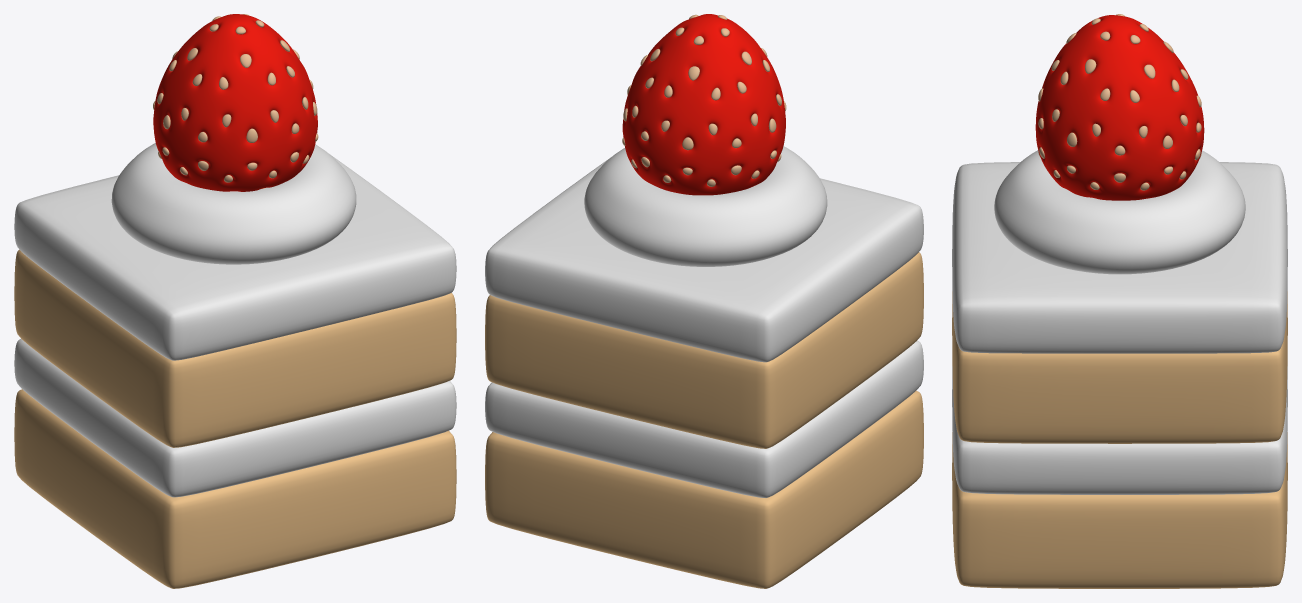
File: strawberryCake1.glb
3 renders of one model, left to right at view 1: azimuth 30°, elevation 25°; view 2: azimuth 150°, elevation 25°; view 3: azimuth 270°, elevation 25°, orthographic. The views are drawn at different scales.
Visible parts, largest first — view 1: cakeLayer4, cakeLayer1, cakeLayer3, cakeLayer2, cakeLayer6, cakeLayer5, cakeLayer7; view 2: cakeLayer4, cakeLayer1, cakeLayer3, cakeLayer2, cakeLayer6, cakeLayer5, cakeLayer7; view 3: cakeLayer4, cakeLayer1, cakeLayer3, cakeLayer6, cakeLayer5, cakeLayer2, cakeLayer7.
Part boxes in pixels (x1,y1,x2,y2): cakeLayer4: (14, 154, 456, 360); cakeLayer1: (14, 389, 456, 588); cakeLayer3: (14, 249, 456, 447); cakeLayer2: (14, 339, 456, 497); cakeLayer6: (153, 14, 317, 191); cakeLayer5: (111, 143, 356, 264); cakeLayer7: (153, 14, 318, 188); cakeLayer4: (485, 157, 923, 362); cakeLayer1: (485, 390, 923, 588); cakeLayer3: (485, 252, 923, 448); cakeLayer2: (485, 340, 923, 497); cakeLayer6: (622, 14, 785, 195); cakeLayer5: (584, 146, 827, 266); cakeLayer7: (622, 14, 786, 186); cakeLayer4: (952, 162, 1287, 353); cakeLayer1: (952, 432, 1287, 588); cakeLayer3: (952, 291, 1287, 443); cakeLayer6: (1035, 15, 1204, 200); cakeLayer5: (994, 150, 1245, 274); cakeLayer2: (952, 366, 1287, 494); cakeLayer7: (1038, 14, 1201, 190).
Bounding box in the file's own units: 0.0533 × 0.0844 × 0.051.
